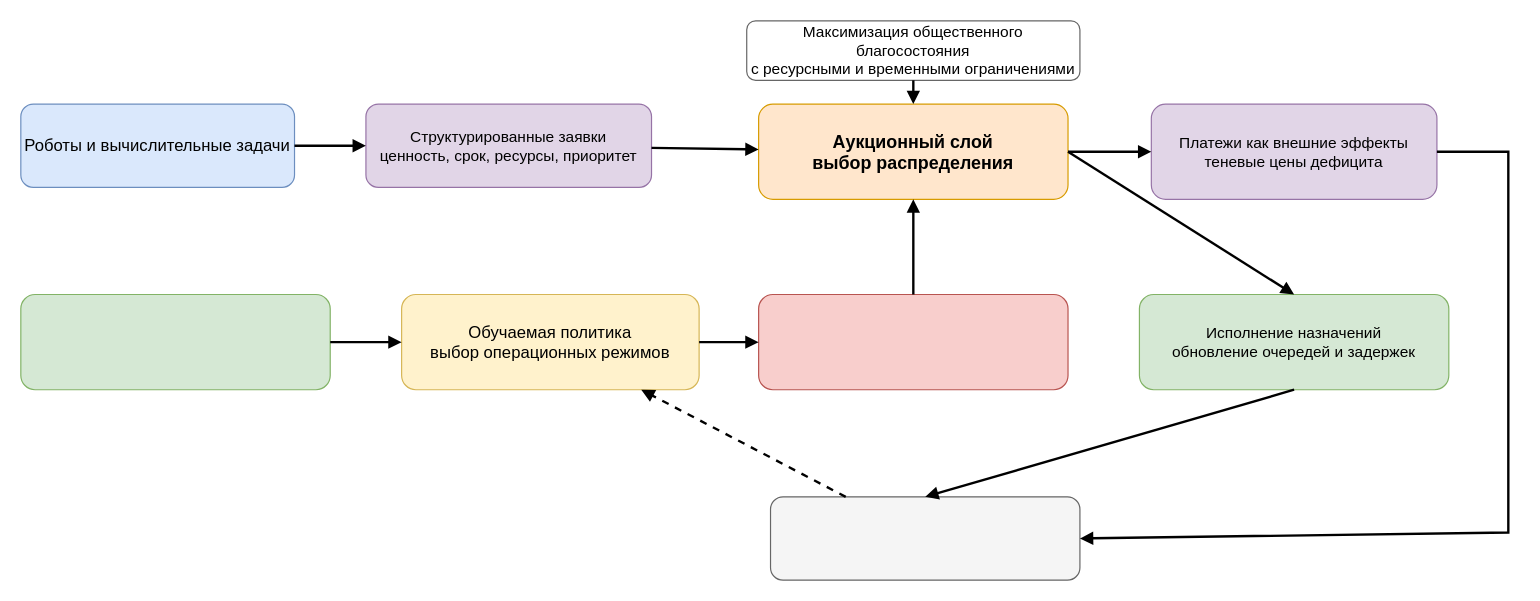
Some shapes in this 1540 by 601 pixel diagram are drawn without their labels. Each missing label, with the box of its shape:
Агрегированные признаки для адаптивного управления: (769, 496, 1080, 580)
Состояние периферийных узлов очереди, отказ, доступные ресурсы: (20, 293, 330, 390)
Экспонируемая ёмкость и ограничения текущего раунда: (757, 293, 1068, 390)
